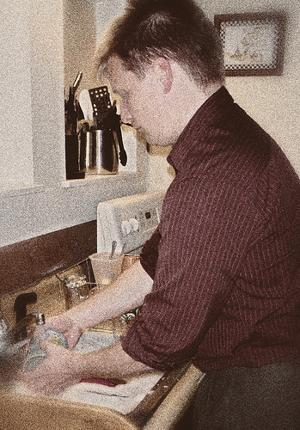person: (16, 1, 300, 430)
